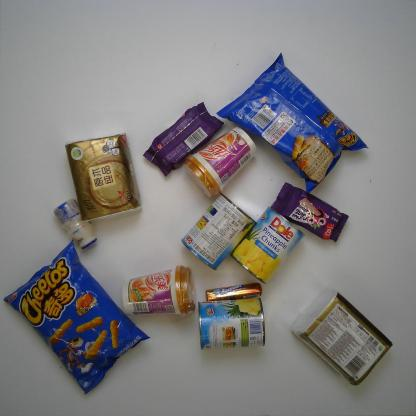Candy: (204, 280, 264, 302)
Canned Food: (178, 191, 257, 270), (231, 206, 304, 284), (196, 297, 269, 353)
Dessert: (141, 100, 225, 178), (271, 181, 350, 241)
Instant Drink: (184, 127, 258, 198), (118, 263, 198, 318)
Milk: (52, 198, 99, 249)
Puffed Food: (4, 239, 150, 394), (217, 52, 370, 193)
Tissue: (290, 288, 393, 386), (65, 133, 142, 223)
